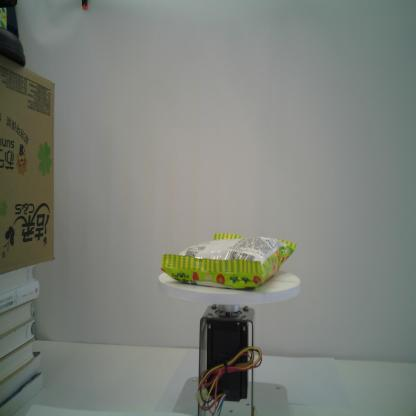Puffed Food: (160, 233, 299, 290)
